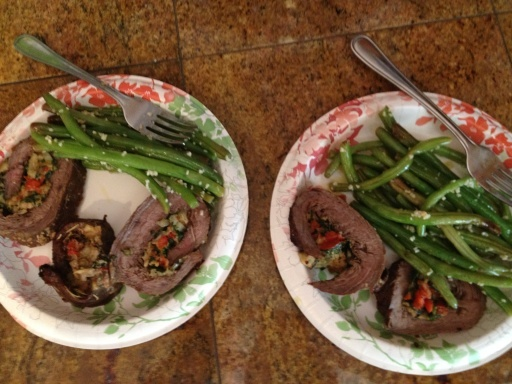background: (180, 62, 409, 201), (0, 53, 186, 184)
